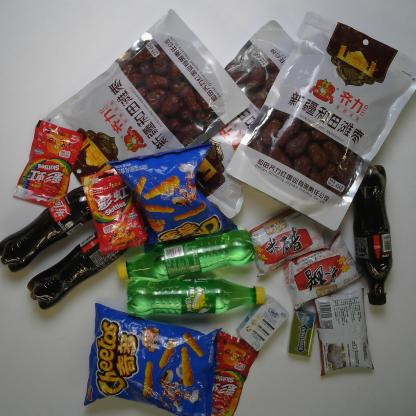Candy: (16, 121, 87, 208), (81, 167, 147, 252), (203, 325, 258, 413)
Dried Food: (229, 9, 413, 228), (29, 9, 249, 174), (182, 19, 317, 219)
Drink: (1, 179, 115, 274), (121, 223, 257, 298), (33, 210, 127, 306), (350, 159, 402, 301), (126, 278, 270, 322)
Gum: (286, 306, 318, 358)
Milk: (242, 296, 285, 344)
Puffed Food: (112, 138, 243, 252), (81, 304, 214, 414)
Seasoner: (284, 226, 364, 317), (314, 290, 386, 386), (246, 206, 328, 270)
